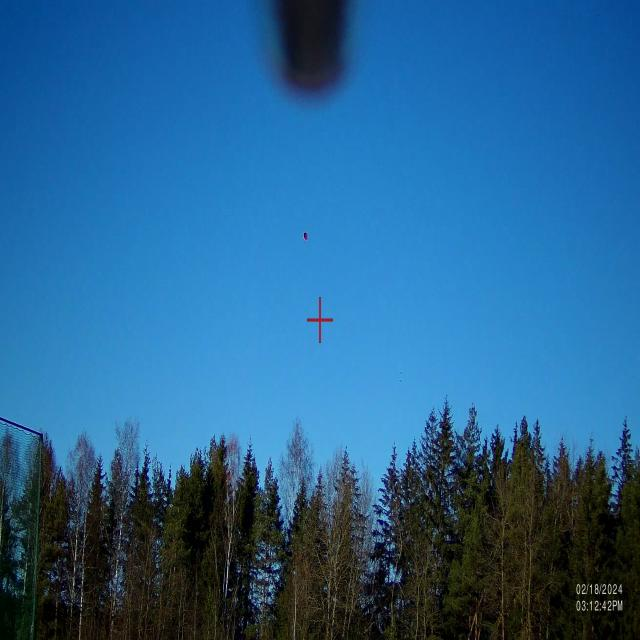entire: (296, 227, 310, 246)
